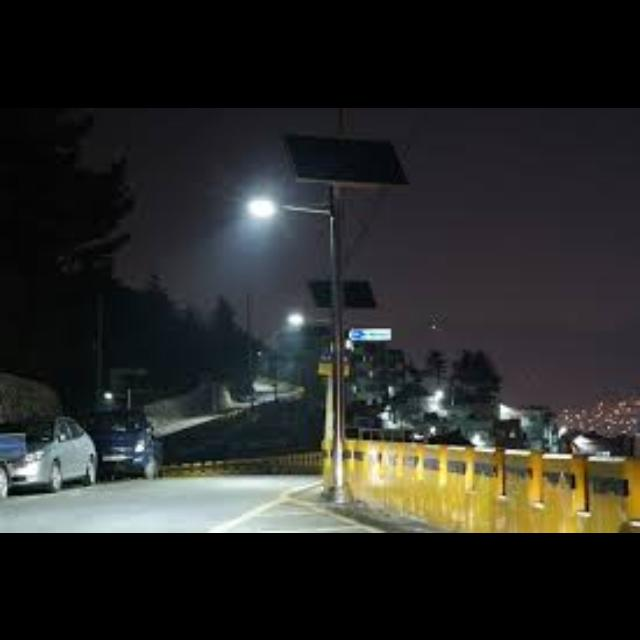Street-Lamp: (235, 180, 375, 510)
